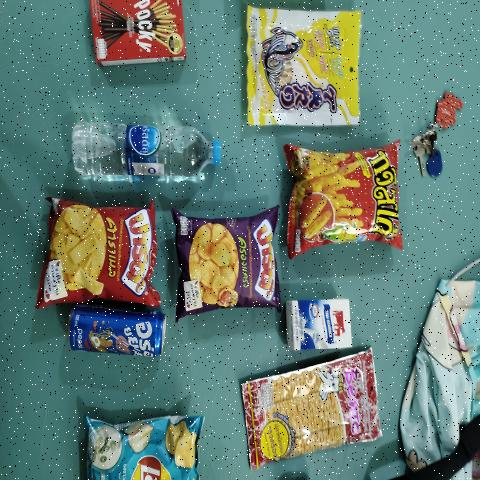bento_red: (238, 363, 376, 454)
crystal: (67, 109, 226, 186)
party_purple: (180, 216, 277, 306)
party_red: (53, 212, 148, 298)
pepsi_blue: (67, 309, 163, 362)
pokki: (94, 0, 186, 61)
taro_yellow: (248, 14, 359, 122)
thai_denmark: (289, 298, 352, 352)
twisco: (294, 153, 402, 243)
